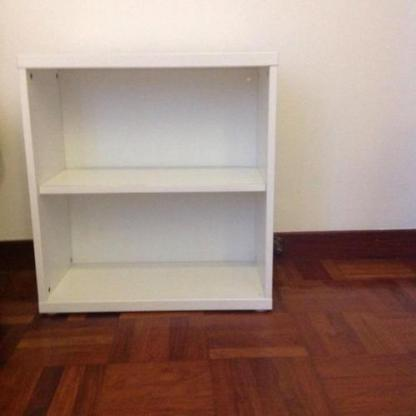lamp: (15, 50, 281, 317)
